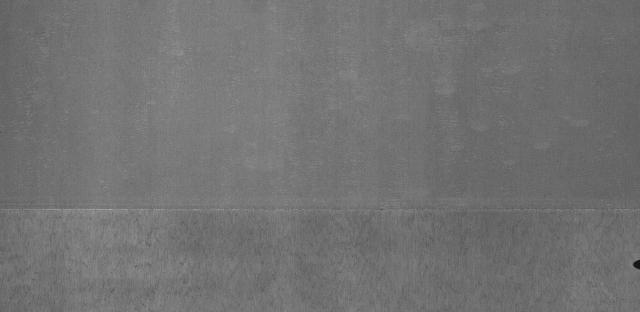punching_hole: (626, 256, 640, 272)
silk_spot: (1, 223, 620, 312)
welding_line: (0, 198, 639, 222)
